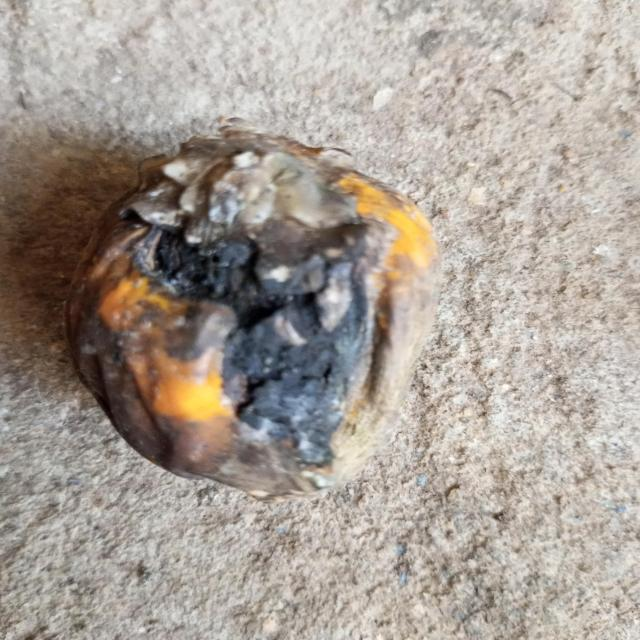damaged: (64, 122, 441, 503)
